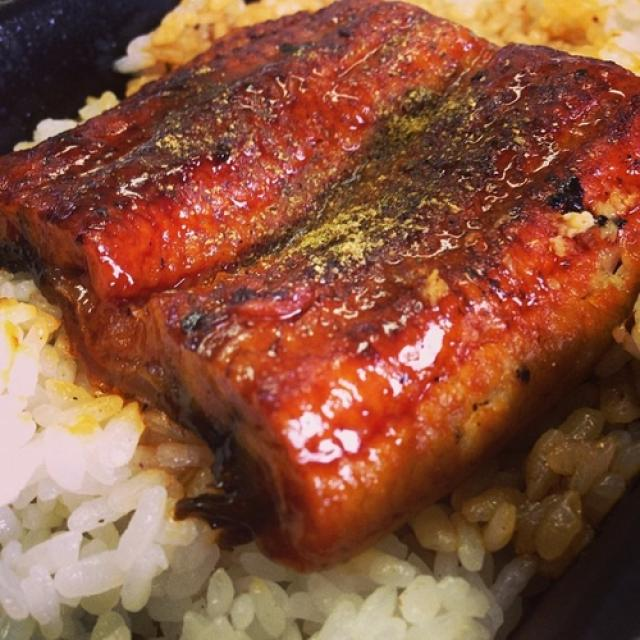熟制海鲜: (8, 13, 630, 576)
